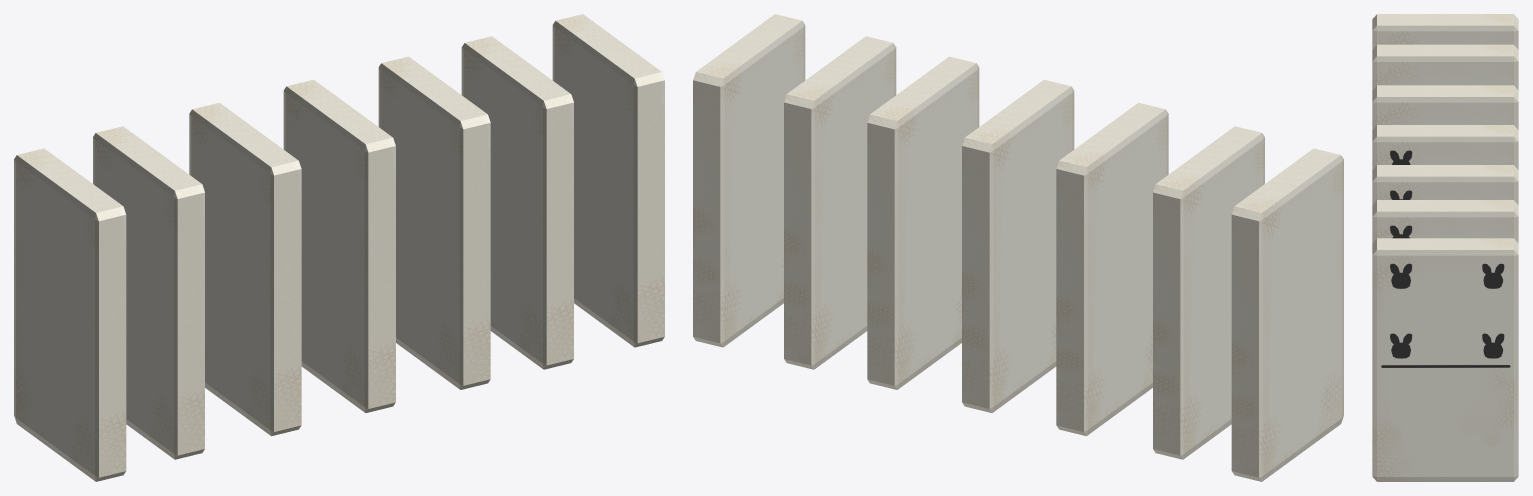
The model's file is domino.fbx.
The picture shows the model from 3 angles, left to right: view 1: azimuth 30°, elevation 25°; view 2: azimuth 150°, elevation 25°; view 3: azimuth 270°, elevation 25°; orthographic projection. The views are drawn at different scales.
Parts seen in each view (by area): view 1: Domino 00, Domino 2, Domino 4, Domino 3, Domino 6, Domino 5, Domino 1; view 2: Domino 00, Domino 2, Domino 4, Domino 3, Domino 6, Domino 5, Domino 1; view 3: Domino 6, Domino 1, Domino 3, Domino 2, Domino 5, Domino 4, Domino 00.
Boxes of the visible parts, x1,y1,x2,y2 form: Domino 00: (14,148,126,481); Domino 2: (189,102,301,436); Domino 4: (378,56,490,389); Domino 3: (283,79,395,412); Domino 6: (552,14,664,347); Domino 5: (461,36,573,369); Domino 1: (93,126,204,459); Domino 00: (1231,148,1343,481); Domino 2: (1056,102,1168,436); Domino 4: (867,56,979,389); Domino 3: (962,79,1074,412); Domino 6: (693,14,805,347); Domino 5: (784,36,896,369); Domino 1: (1153,126,1264,459); Domino 6: (1372,238,1518,481); Domino 1: (1372,44,1518,90); Domino 3: (1372,125,1518,169); Domino 2: (1372,85,1518,129); Domino 5: (1372,200,1518,243); Domino 4: (1372,165,1518,204); Domino 00: (1372,14,1518,49).
Bounding box in the file's own units: 774 × 354 × 200.
Materials: 7 (7 with a texture image).
